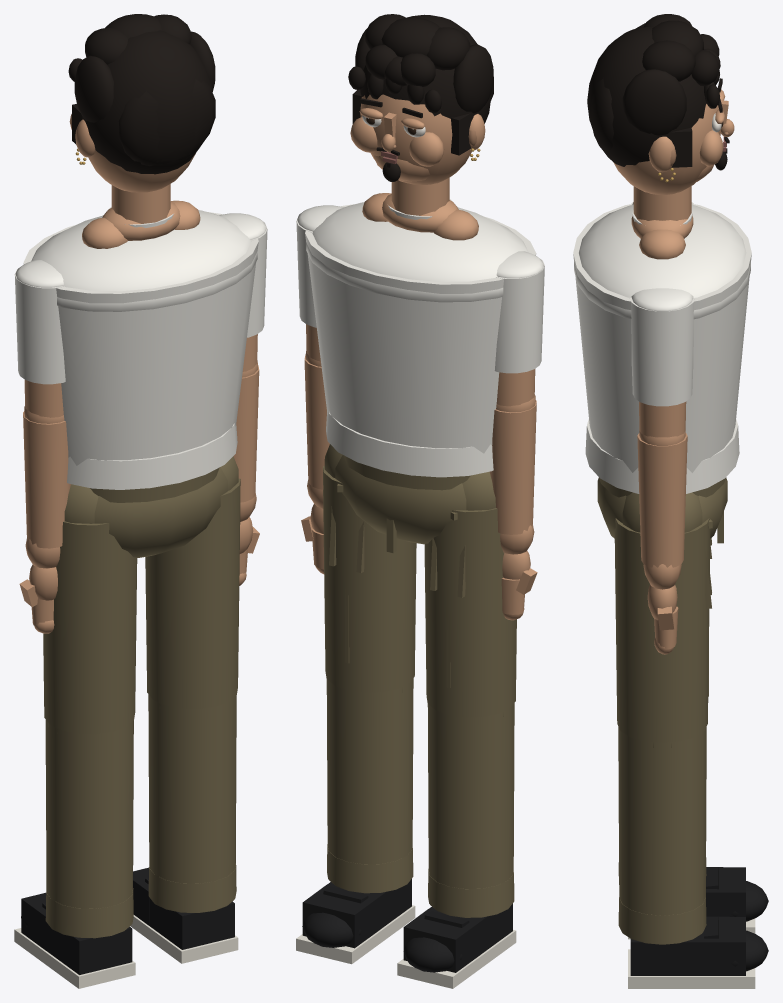
Rendered from male_1.glb.
The picture shows the model from 3 angles, left to right: view 1: azimuth 30°, elevation 25°; view 2: azimuth 150°, elevation 25°; view 3: azimuth 270°, elevation 25°; orthographic projection.
Parts seen in each view (by area): view 1: Mesh_Torso, Mesh_Hair, Mesh_ThighR, Mesh_ShinL, Mesh_ShinR, Mesh_ThighL, Mesh_Pelvis, Mesh_UpperArmR, Mesh_LowerArmR, Mesh_FootR, Mesh_Neck, Mesh_FootL (+7 smaller); view 2: Mesh_Torso, Mesh_ShinL, Mesh_ShinR, Mesh_ThighR, Mesh_ThighL, Mesh_Hair, Mesh_Head, Mesh_Pelvis, Mesh_UpperArmR, Mesh_LowerArmR, Mesh_Neck, Mesh_ToeR (+7 smaller); view 3: Mesh_Torso, Mesh_ShinL, Mesh_ThighL, Mesh_Hair, Mesh_UpperArmL, Mesh_LowerArmL, Mesh_Head, Mesh_FootL, Mesh_Neck, Mesh_ToeL, Mesh_ToeR, Mesh_Pelvis (+1 smaller).
Part boxes in pixels (bbox=[...]): Mesh_Torso: bbox=[23, 207, 258, 489]; Mesh_Hair: bbox=[68, 14, 215, 174]; Mesh_ThighR: bbox=[43, 484, 137, 734]; Mesh_ShinL: bbox=[148, 694, 236, 912]; Mesh_ShinR: bbox=[45, 719, 133, 938]; Mesh_ThighL: bbox=[145, 456, 240, 709]; Mesh_Pelvis: bbox=[90, 467, 227, 557]; Mesh_UpperArmR: bbox=[14, 260, 65, 417]; Mesh_LowerArmR: bbox=[23, 406, 70, 568]; Mesh_FootR: bbox=[14, 922, 135, 988]; Mesh_Neck: bbox=[82, 184, 200, 248]; Mesh_FootL: bbox=[130, 897, 238, 963]; Mesh_Torso: bbox=[305, 199, 536, 477]; Mesh_ShinL: bbox=[326, 678, 413, 893]; Mesh_ShinR: bbox=[427, 703, 514, 917]; Mesh_ThighR: bbox=[424, 471, 516, 717]; Mesh_ThighL: bbox=[323, 444, 416, 692]; Mesh_Hair: bbox=[348, 14, 493, 155]; Mesh_Head: bbox=[350, 94, 485, 184]; Mesh_Pelvis: bbox=[335, 455, 470, 553]; Mesh_UpperArmR: bbox=[494, 251, 544, 406]; Mesh_LowerArmR: bbox=[489, 394, 536, 554]; Mesh_Neck: bbox=[362, 177, 478, 240]; Mesh_ToeR: bbox=[403, 909, 480, 972]; Mesh_Torso: bbox=[573, 204, 751, 493]; Mesh_ShinL: bbox=[618, 727, 706, 944]; Mesh_ThighL: bbox=[614, 492, 711, 742]; Mesh_Hair: bbox=[587, 14, 720, 167]; Mesh_UpperArmL: bbox=[629, 288, 695, 437]; Mesh_LowerArmL: bbox=[637, 431, 687, 589]; Mesh_Head: bbox=[613, 78, 734, 194]; Mesh_FootL: bbox=[628, 938, 755, 988]; Mesh_Neck: bbox=[631, 186, 693, 259]; Mesh_ToeL: bbox=[696, 916, 768, 975]; Mesh_ToeR: bbox=[706, 867, 768, 921]; Mesh_Pelvis: bbox=[597, 477, 727, 543].
Bounding box in the file's own units: 0.4962 × 1.82 × 0.3496.
